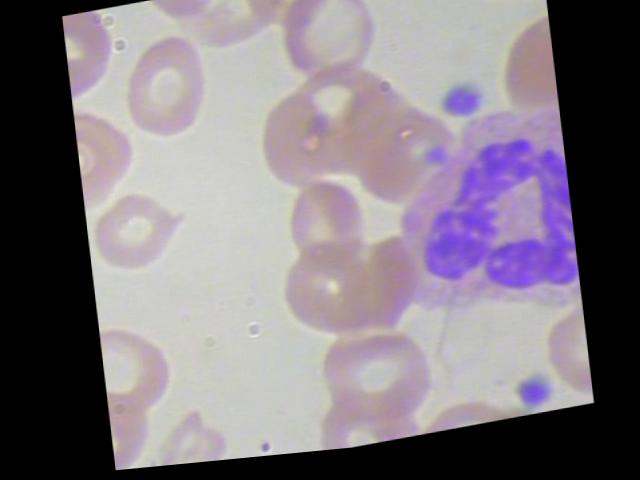Platelets: (502, 379, 556, 427), (438, 86, 484, 132)
Red Blood Cells: (314, 312, 432, 450), (268, 0, 387, 109), (117, 29, 211, 154), (85, 183, 193, 278), (278, 176, 370, 287), (95, 310, 177, 423), (308, 381, 421, 456), (416, 396, 524, 441), (135, 444, 262, 470), (140, 0, 227, 37), (444, 0, 546, 30), (345, 0, 457, 22)
White Blood Cells: (385, 107, 579, 343)
